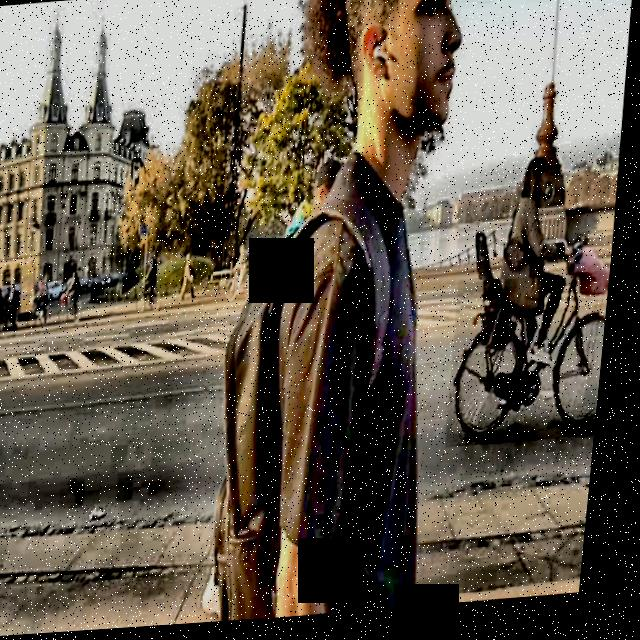bicycle: (452, 278, 616, 454)
